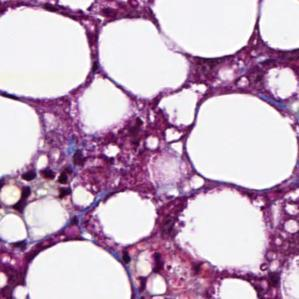inflammation: (14, 167, 75, 209)
